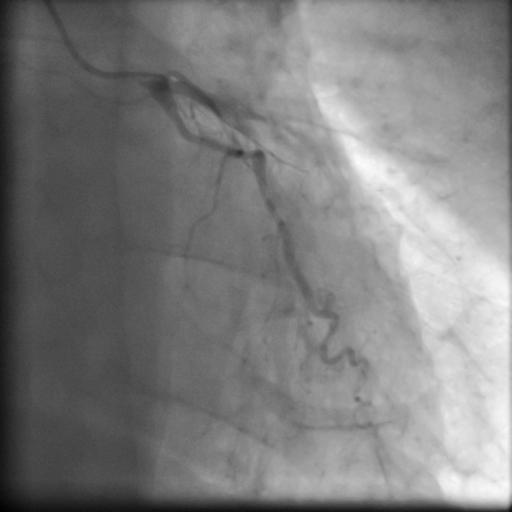Stenosis: (237, 142, 259, 166)
